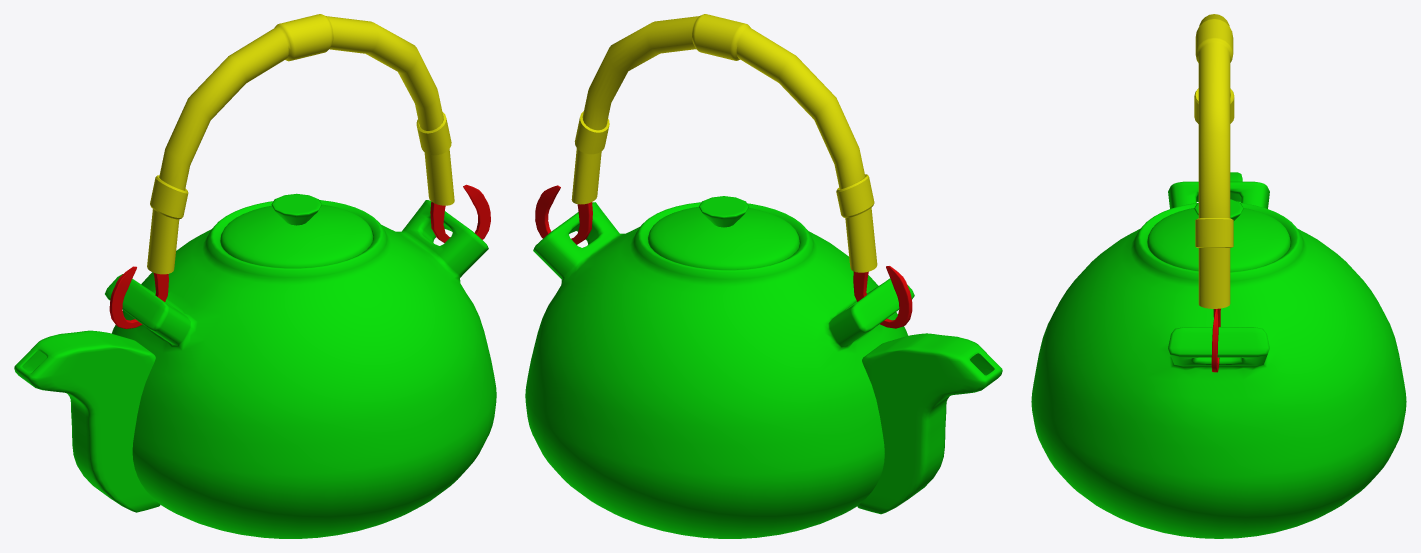
Rendered from AOS_Tea_Kettle_V1.fbx.
3 renders of one model, left to right at view 1: azimuth 30°, elevation 25°; view 2: azimuth 150°, elevation 25°; view 3: azimuth 270°, elevation 25°, orthographic.
Visible parts, largest first — view 1: pCone3; view 2: pCone3; view 3: pCone3.
Part boxes in pixels (x1,y1,x2,y2): pCone3: (14, 14, 496, 538); pCone3: (525, 14, 1002, 538); pCone3: (1031, 14, 1406, 538).
Size of the model in its own units: 2.12 by 2.15 by 1.51.
